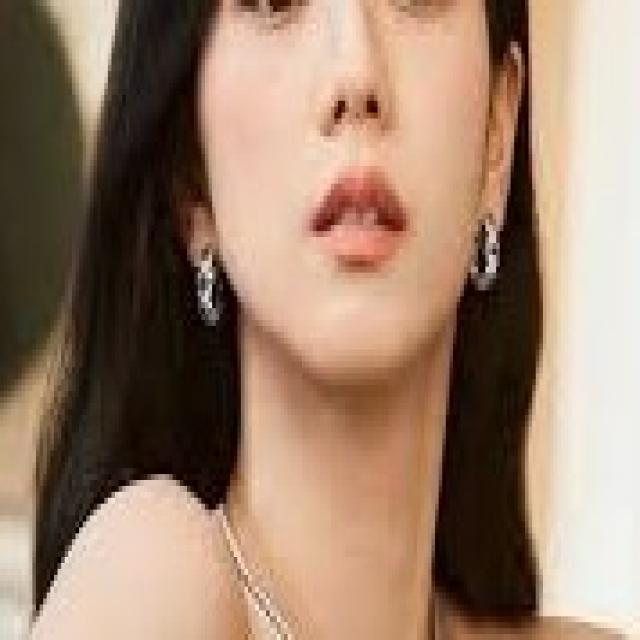Healthy: (228, 312, 456, 636)
